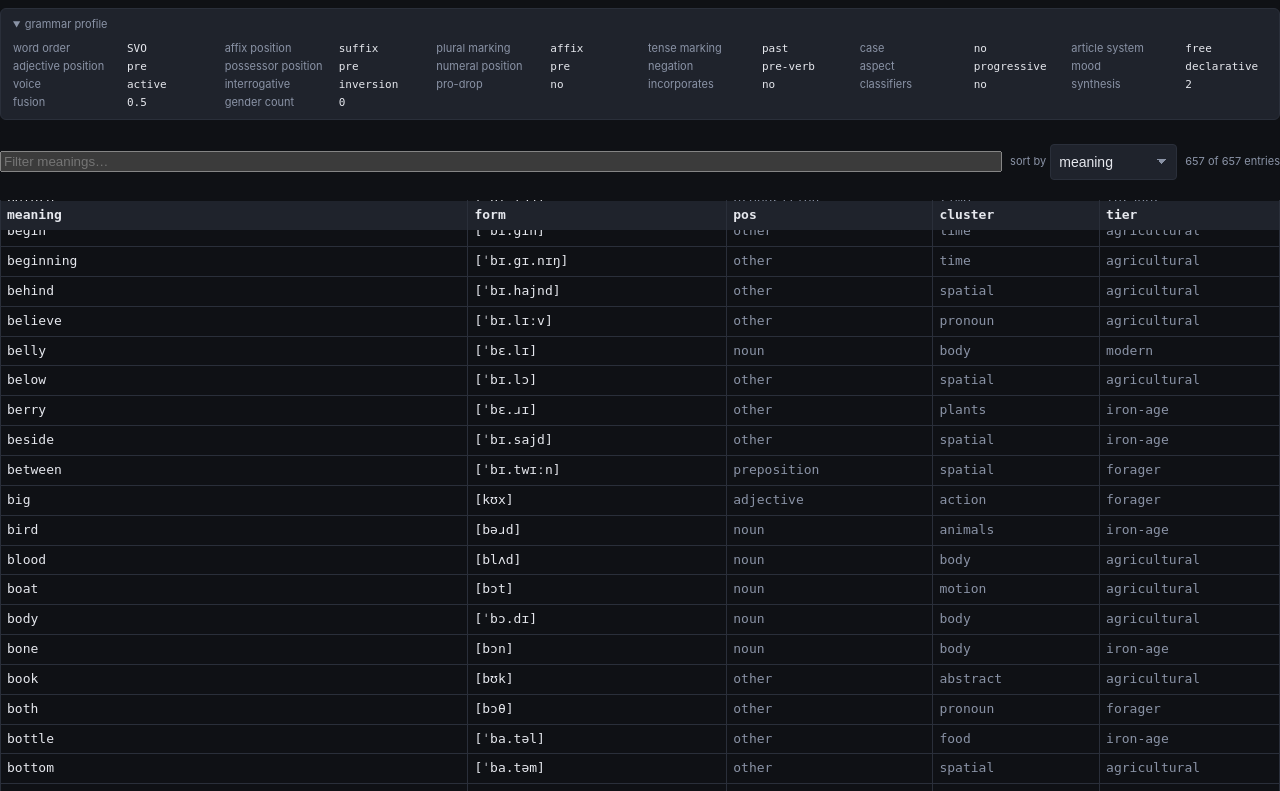
Scenario: DictionaryView — homonyms › surfaces a homonym (big/small forced to share a form)
The image size is (1280, 791).
(page scrolled)
Click the text "big" at (234, 500), box 0,485 -> 468,515
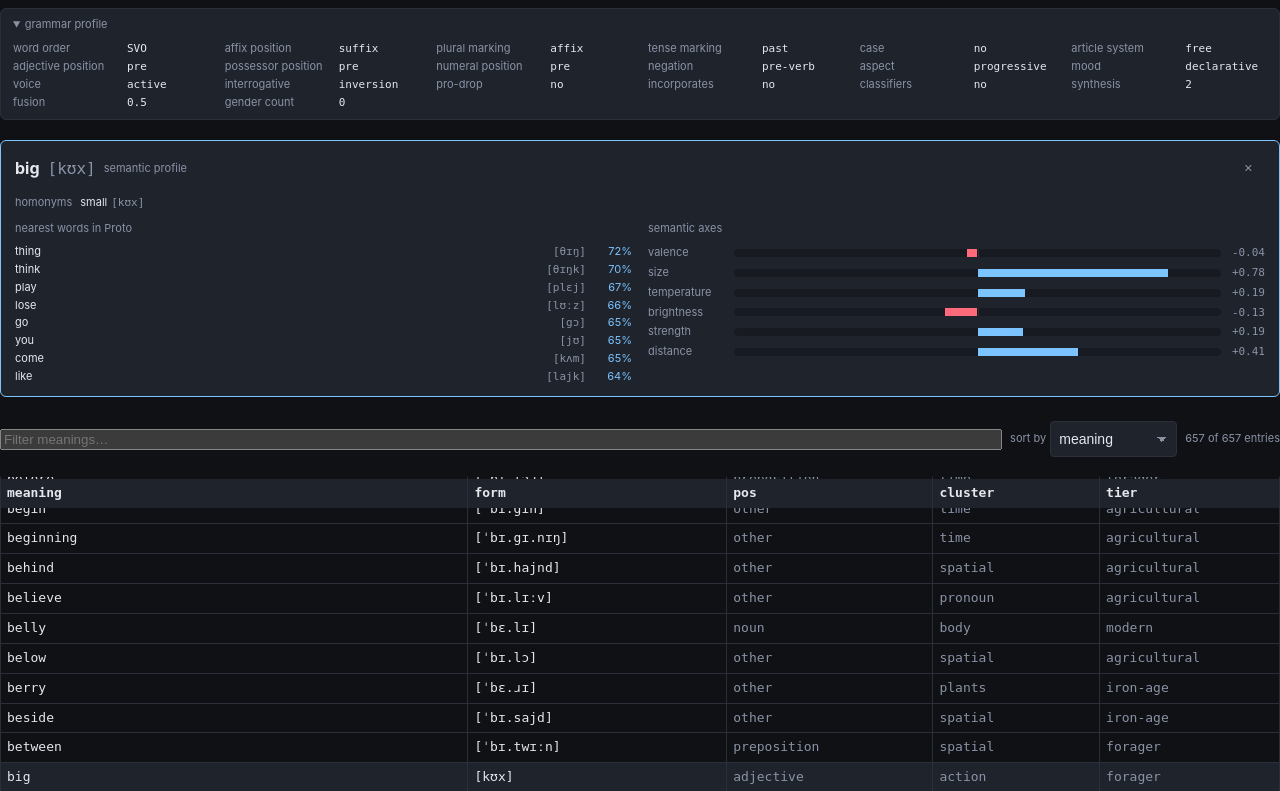
Expected: the text "homonyms" is shown, 15,195 -> 72,211
Expected: the text "small" is shown, 80,195 -> 107,211
